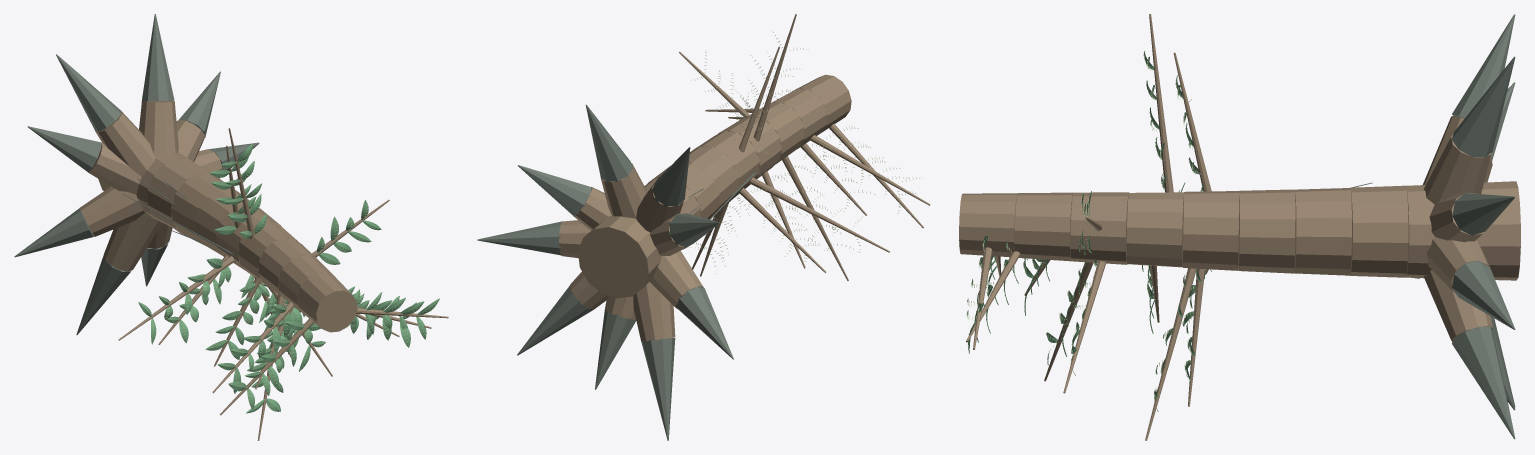
Rendered from Aquarion_Saltwind_Fig.glb.
3 views of the same model, side by side, from view 1: azimuth 30°, elevation 25°; view 2: azimuth 150°, elevation 25°; view 3: azimuth 270°, elevation 25° (orthographic). The views are drawn at different scales.
Visible parts, largest first — view 1: Aquarion_Saltwind_Fig_trunk9, Aquarion_Saltwind_Fig_buttress5a, Aquarion_Saltwind_Fig_buttress6a, Aquarion_Saltwind_Fig_trunk2, Aquarion_Saltwind_Fig_buttress3a, Aquarion_Saltwind_Fig_buttress2a, Aquarion_Saltwind_Fig_trunk3, Aquarion_Saltwind_Fig_buttress3b, Aquarion_Saltwind_Fig_buttress2b, Aquarion_Saltwind_Fig_trunk7, Aquarion_Saltwind_Fig_trunk4, Aquarion_Saltwind_Fig_buttress4a (+16 smaller); view 2: Aquarion_Saltwind_Fig_trunk0, Aquarion_Saltwind_Fig_buttress6a, Aquarion_Saltwind_Fig_buttress6b, Aquarion_Saltwind_Fig_buttress5a, Aquarion_Saltwind_Fig_buttress2b, Aquarion_Saltwind_Fig_trunk4, Aquarion_Saltwind_Fig_buttress5b, Aquarion_Saltwind_Fig_trunk5, Aquarion_Saltwind_Fig_buttress0b, Aquarion_Saltwind_Fig_buttress8b, Aquarion_Saltwind_Fig_buttress2a, Aquarion_Saltwind_Fig_trunk8 (+22 smaller); view 3: Aquarion_Saltwind_Fig_trunk2, Aquarion_Saltwind_Fig_trunk3, Aquarion_Saltwind_Fig_trunk4, Aquarion_Saltwind_Fig_trunk5, Aquarion_Saltwind_Fig_trunk6, Aquarion_Saltwind_Fig_trunk7, Aquarion_Saltwind_Fig_trunk8, Aquarion_Saltwind_Fig_trunk9, Aquarion_Saltwind_Fig_trunk0, Aquarion_Saltwind_Fig_buttress8b, Aquarion_Saltwind_Fig_buttress2b, Aquarion_Saltwind_Fig_buttress2a (+16 smaller).
Part boxes in pixels (x1=…): Aquarion_Saltwind_Fig_trunk9: x1=297, y1=273, x2=357, y2=332; Aquarion_Saltwind_Fig_buttress5a: x1=80, y1=186, x2=145, y2=236; Aquarion_Saltwind_Fig_buttress6a: x1=103, y1=212, x2=162, y2=271; Aquarion_Saltwind_Fig_trunk2: x1=147, y1=158, x2=212, y2=230; Aquarion_Saltwind_Fig_buttress3a: x1=95, y1=111, x2=155, y2=176; Aquarion_Saltwind_Fig_buttress2a: x1=139, y1=100, x2=178, y2=157; Aquarion_Saltwind_Fig_trunk3: x1=171, y1=173, x2=239, y2=243; Aquarion_Saltwind_Fig_buttress3b: x1=56, y1=54, x2=121, y2=131; Aquarion_Saltwind_Fig_buttress2b: x1=141, y1=14, x2=174, y2=101; Aquarion_Saltwind_Fig_trunk7: x1=258, y1=238, x2=317, y2=296; Aquarion_Saltwind_Fig_trunk4: x1=194, y1=189, x2=259, y2=255; Aquarion_Saltwind_Fig_buttress4a: x1=88, y1=142, x2=141, y2=194; Aquarion_Saltwind_Fig_trunk0: x1=578, y1=215, x2=661, y2=298; Aquarion_Saltwind_Fig_buttress6a: x1=633, y1=282, x2=675, y2=341; Aquarion_Saltwind_Fig_buttress6b: x1=641, y1=337, x2=675, y2=440; Aquarion_Saltwind_Fig_buttress5a: x1=649, y1=251, x2=703, y2=309; Aquarion_Saltwind_Fig_buttress2b: x1=585, y1=104, x2=633, y2=182; Aquarion_Saltwind_Fig_trunk4: x1=688, y1=146, x2=739, y2=212; Aquarion_Saltwind_Fig_buttress5b: x1=675, y1=286, x2=733, y2=359; Aquarion_Saltwind_Fig_trunk5: x1=692, y1=131, x2=760, y2=198; Aquarion_Saltwind_Fig_buttress0b: x1=477, y1=221, x2=562, y2=255; Aquarion_Saltwind_Fig_buttress8b: x1=517, y1=285, x2=593, y2=355; Aquarion_Saltwind_Fig_buttress2a: x1=600, y1=163, x2=647, y2=218; Aquarion_Saltwind_Fig_trunk8: x1=772, y1=88, x2=827, y2=148; Aquarion_Saltwind_Fig_trunk2: x1=1350, y1=185, x2=1408, y2=277; Aquarion_Saltwind_Fig_trunk3: x1=1294, y1=188, x2=1351, y2=275; Aquarion_Saltwind_Fig_trunk4: x1=1238, y1=189, x2=1295, y2=273; Aquarion_Saltwind_Fig_trunk5: x1=1183, y1=191, x2=1239, y2=270; Aquarion_Saltwind_Fig_trunk6: x1=1126, y1=192, x2=1184, y2=267; Aquarion_Saltwind_Fig_trunk7: x1=1070, y1=192, x2=1128, y2=264; Aquarion_Saltwind_Fig_trunk8: x1=1014, y1=192, x2=1073, y2=261; Aquarion_Saltwind_Fig_trunk9: x1=959, y1=193, x2=1017, y2=257; Aquarion_Saltwind_Fig_trunk0: x1=1477, y1=181, x2=1520, y2=280; Aquarion_Saltwind_Fig_buttress8b: x1=1452, y1=325, x2=1515, y2=439; Aquarion_Saltwind_Fig_buttress2b: x1=1452, y1=56, x2=1515, y2=158; Aquarion_Saltwind_Fig_buttress2a: x1=1424, y1=135, x2=1491, y2=204.
Bounding box in the file's own units: 4.81 × 5.21 × 6.58.
